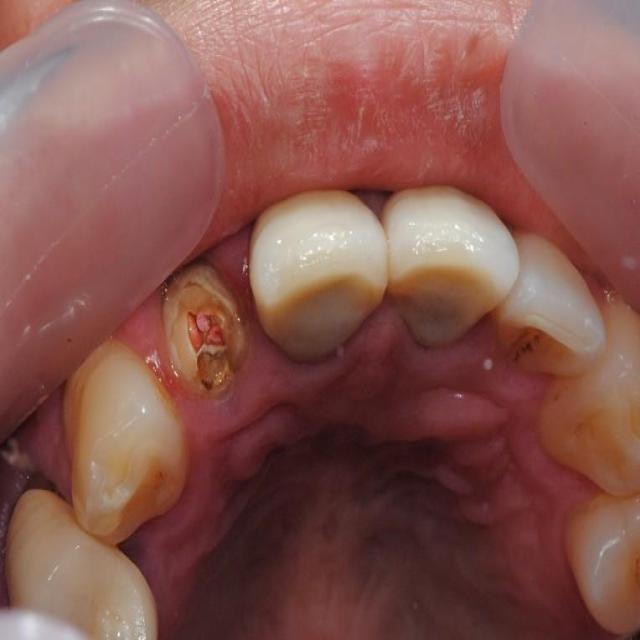Caries: (163, 264, 246, 392), (515, 344, 532, 360)
Tooth: (64, 340, 188, 545), (249, 189, 388, 361), (5, 489, 157, 639), (380, 186, 519, 348), (538, 304, 639, 496), (496, 235, 609, 376), (562, 489, 639, 634)
